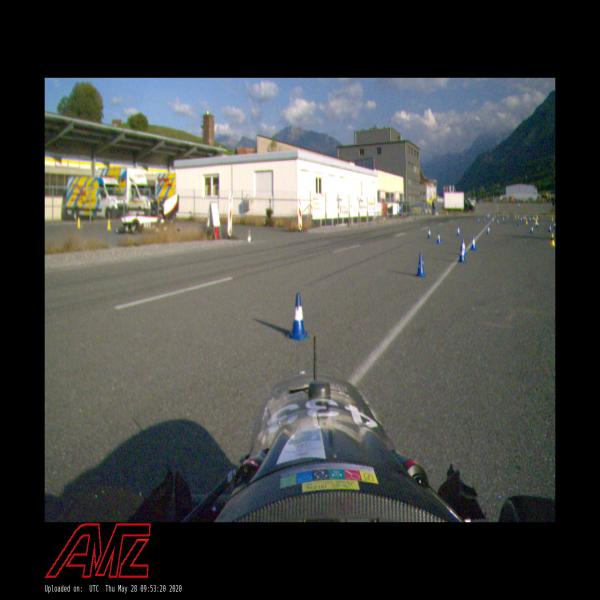blue_cone: (287, 293, 309, 341), (416, 254, 426, 278), (458, 245, 467, 263), (470, 236, 476, 251), (436, 232, 442, 244), (462, 239, 466, 255), (428, 228, 432, 238), (457, 227, 460, 236), (488, 225, 490, 234), (531, 226, 533, 234)
yellow_cone: (550, 233, 555, 247)
